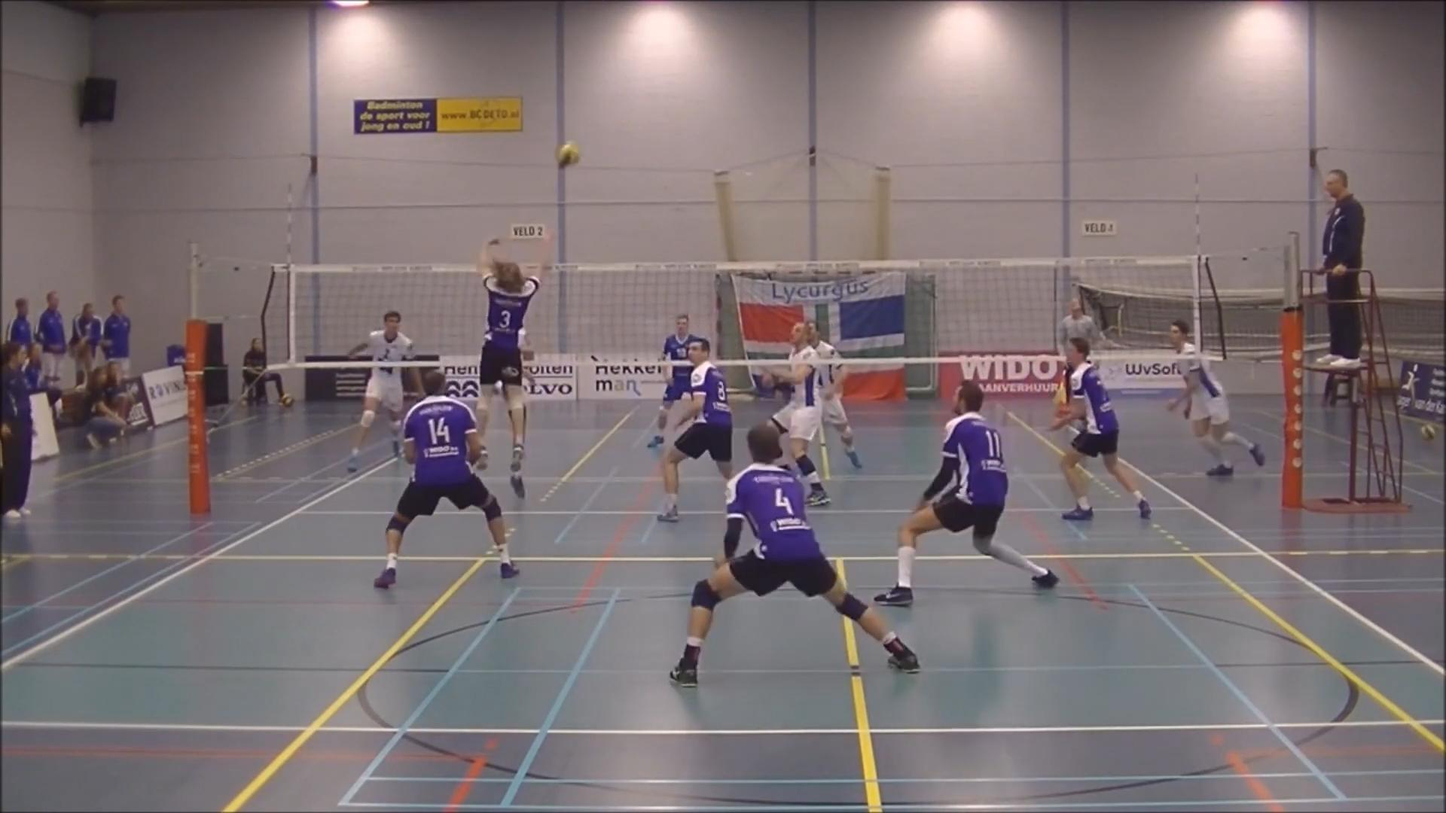muro: (469, 231, 564, 474)
